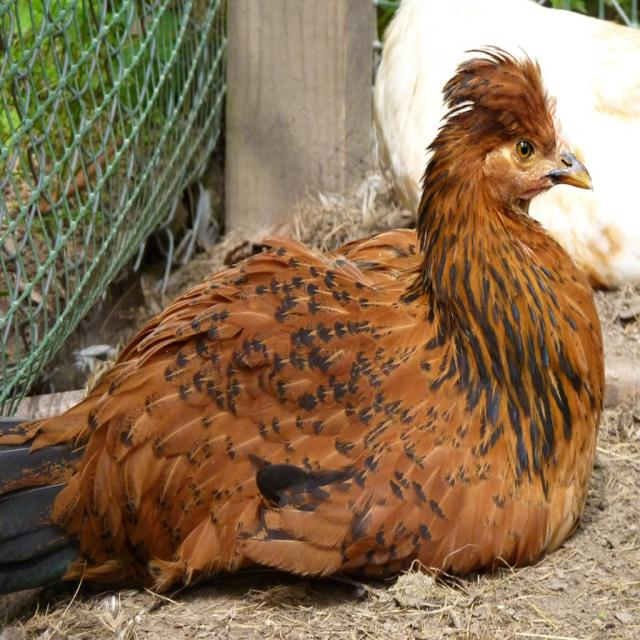Chicken: (61, 55, 588, 609)
